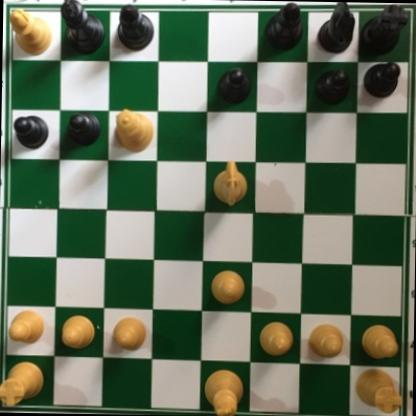black-bishop: (116, 1, 156, 52), (265, 2, 303, 51)
black-king: (60, 0, 106, 55)
black-knight: (318, 3, 356, 56)
black-pawn: (363, 59, 402, 99), (215, 65, 251, 106), (312, 67, 348, 106), (64, 112, 103, 147), (11, 115, 49, 150)
black-rook: (358, 3, 408, 56)
white-bishop: (7, 5, 53, 56)
white-king: (202, 360, 244, 416)
white-knight: (212, 157, 249, 206)
white-pawn: (7, 303, 47, 346), (358, 322, 401, 360), (305, 321, 344, 359), (59, 313, 99, 350), (110, 315, 149, 351), (209, 270, 247, 306), (258, 320, 295, 356)
white-queen: (113, 107, 155, 154)
white-rook: (353, 364, 404, 415), (0, 358, 46, 407)
